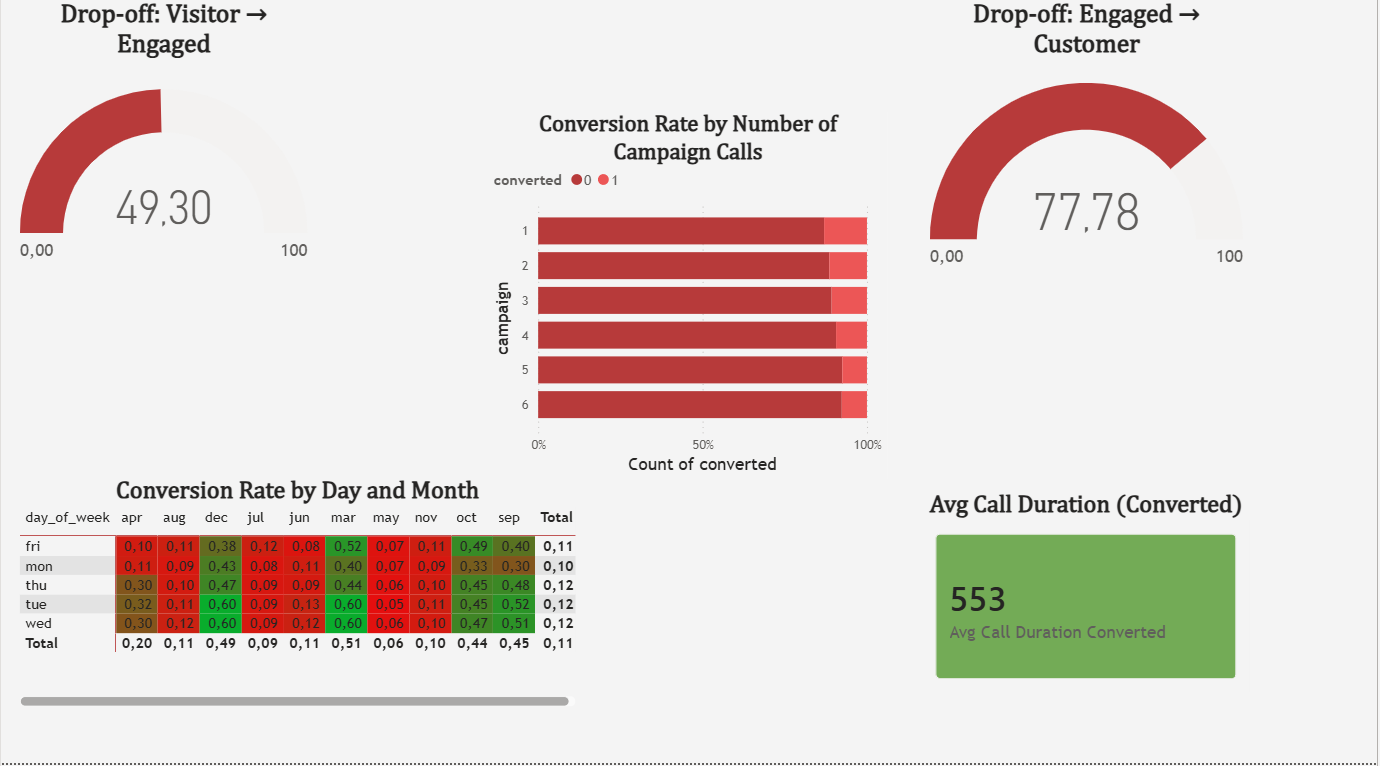

Layout of this report page (visuals, bound fields, positions):
{"tool":"powerbi","page":{"name":"Campaign Efficiency and Drop-off","canvas":[1280,720],"ordinal":2},"visuals":[{"type":"gauge","title":" Drop-off: Visitor → Engaged","fields":{"Y":["FunnelStages.Dropoff Visitor to Engaged %"],"MaxValue":["FunnelStages.Max Value"]},"box":[12.5,10,277.5,280],"z":0},{"type":"gauge","title":" Drop-off: Engaged → Customer","fields":{"Y":["FunnelStages.Dropoff Engaged to Customer %"],"MaxValue":["FunnelStages.Max Value"]},"box":[858.8,10,301.2,280],"z":1000},{"type":"pivotTable","title":"Conversion Rate by Day and Month","fields":{"Rows":["cleaned_marketing_funnel.day_of_week"],"Columns":["cleaned_marketing_funnel.month"],"Values":["Avg(cleaned_marketing_funnel.converted)"]},"box":[12.5,455,526.2,217.5],"z":2000},{"type":"hundredPercentStackedBarChart","title":" Conversion Rate by Number of Campaign Calls","fields":{"Category":["cleaned_marketing_funnel.campaign"],"Y":["CountNonNull(cleaned_marketing_funnel.converted)"],"Series":["cleaned_marketing_funnel.converted"]},"box":[453.8,113.8,371.2,341.2],"z":3000},{"type":"cardVisual","title":"Avg Call Duration (Converted)","fields":{"Data":["FunnelStages.Avg Call Duration Converted"]},"box":[852.2,467.8,314.4,192.2],"z":4000}]}

Visuals, with their boxes in screenshot pixels (x1, y1, x2, y2), scaled from the page's 1280x720 canvas onto the 1380x766 screenshot:
" Drop-off: Visitor → Engaged" gauge: bbox=(13, 11, 313, 309)
" Drop-off: Engaged → Customer" gauge: bbox=(926, 11, 1251, 309)
"Conversion Rate by Day and Month" pivotTable: bbox=(13, 484, 581, 715)
" Conversion Rate by Number of Campaign Calls" hundredPercentStackedBarChart: bbox=(489, 121, 889, 484)
"Avg Call Duration (Converted)" cardVisual: bbox=(919, 498, 1258, 702)
